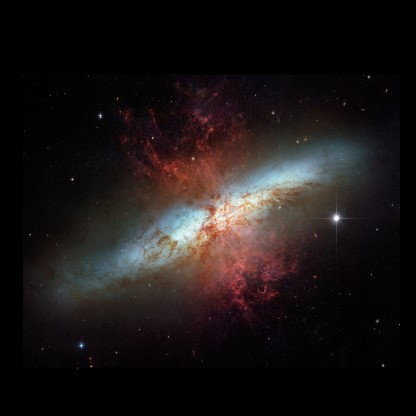Messier 82: (56, 124, 385, 313)
